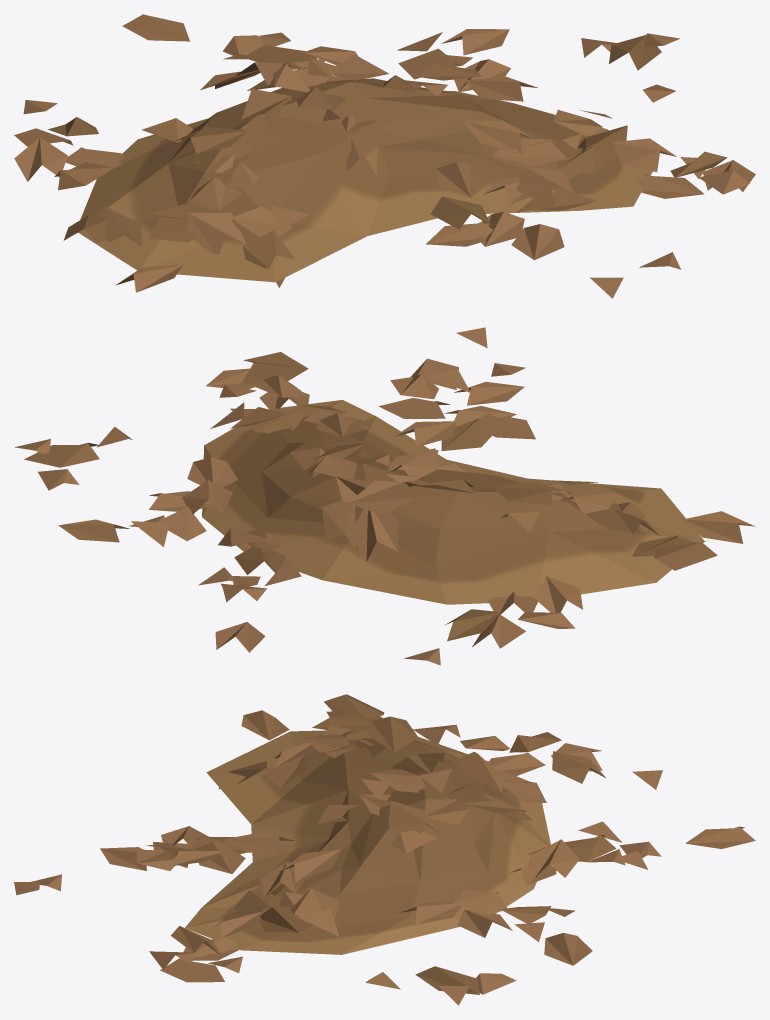
File: SM_Env_Leaves_Pile_01.obj
3 renders of one model, top to bottom at view 1: azimuth 30°, elevation 25°; view 2: azimuth 150°, elevation 25°; view 3: azimuth 270°, elevation 25°, orthographic. The views are drawn at different scales.
Parts seen in each view (by area): view 1: SM_Env_Leaves_Pile_01_0; view 2: SM_Env_Leaves_Pile_01_0; view 3: SM_Env_Leaves_Pile_01_0.
Boxes of the visible parts, x1,y1,x2,y2 form: SM_Env_Leaves_Pile_01_0: (14,14,755,298); SM_Env_Leaves_Pile_01_0: (15,327,755,665); SM_Env_Leaves_Pile_01_0: (14,694,755,1005).
Bounding box in the file's own units: 2.81 × 0.3939 × 2.9.
Materials: 1 (1 with a texture image).
